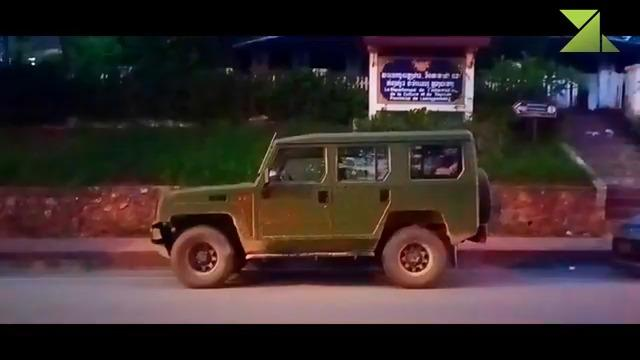MIL_HMMWV: (146, 129, 491, 286)
